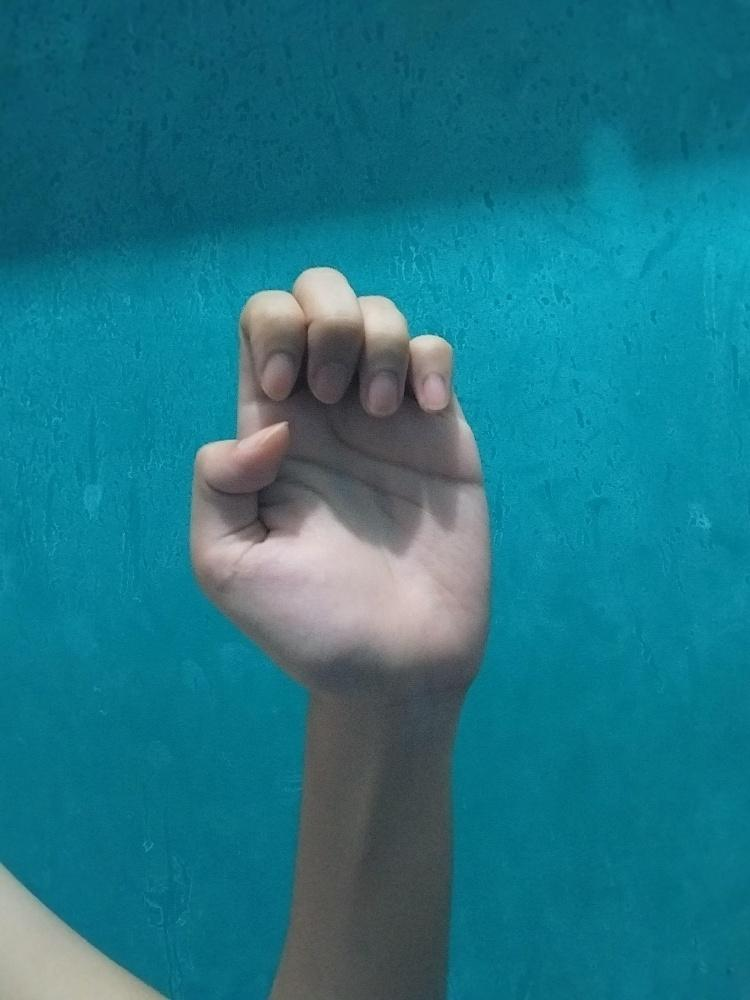e: (187, 259, 496, 681)
